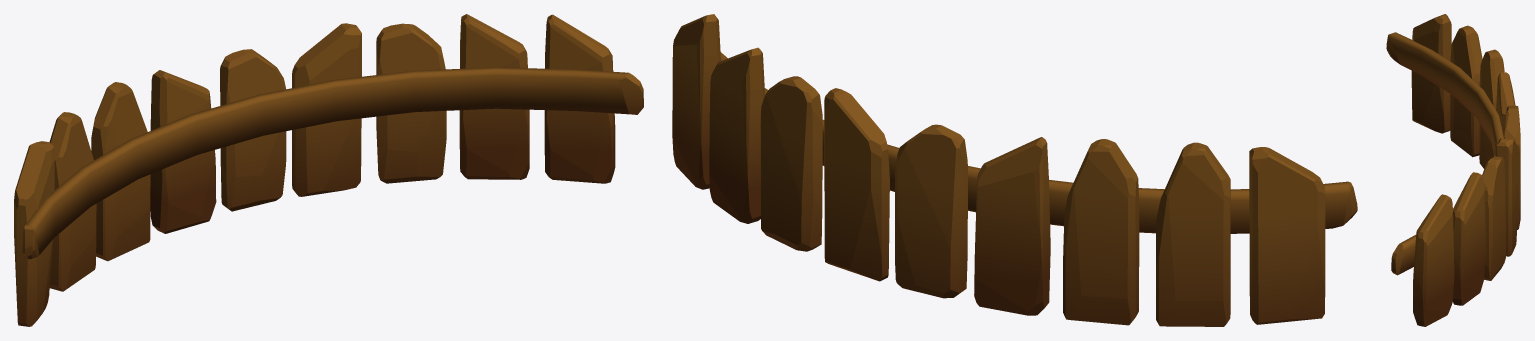
The model's file is WoodFence03.fbx.
The picture shows the model from 3 angles, left to right: view 1: azimuth 30°, elevation 25°; view 2: azimuth 150°, elevation 25°; view 3: azimuth 270°, elevation 25°; orthographic projection. The views are drawn at different scales.
Parts seen in each view (by area): view 1: LOD0; view 2: LOD0; view 3: LOD0.
Part boxes in pixels (box(x1,y1,x2,y2)): LOD0: box(14, 14, 643, 326); LOD0: box(672, 14, 1357, 326); LOD0: box(1386, 14, 1520, 326).
Size of what is drawn, in the model's own units: 605 by 157 by 154.
